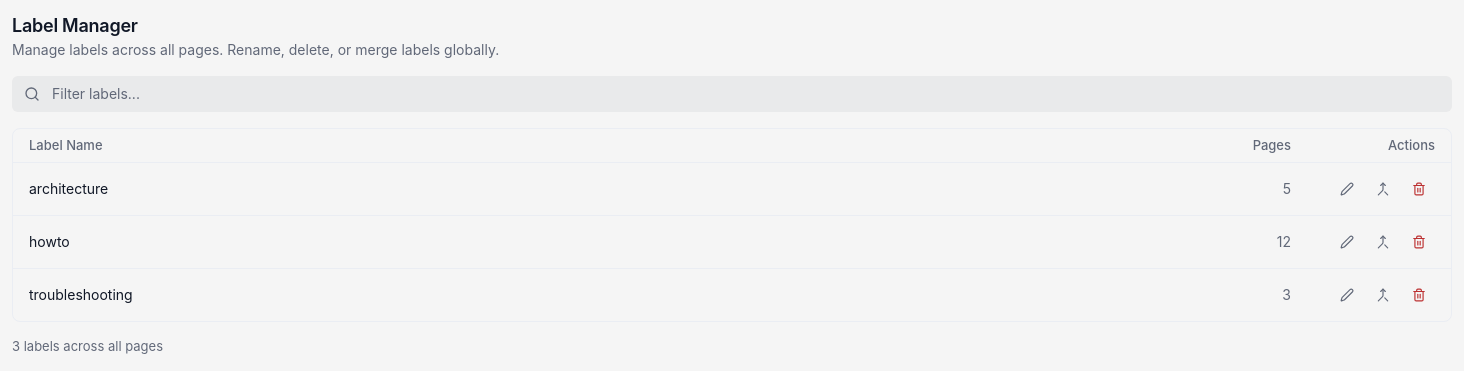
LabelManager › filters labels by search
Expected: the text "architecture" is shown, x1=29 y1=180 x2=108 y2=197
Type "howto" into the field with test id "label-search" at (732, 94), box x1=12 y1=76 x2=1452 y2=112
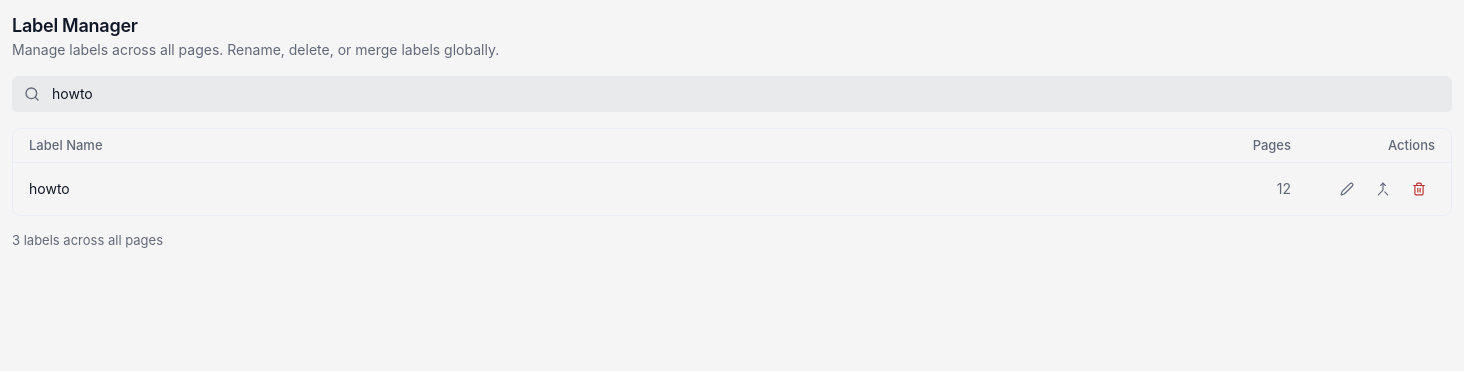
Expected: the text "howto" is shown, x1=29 y1=180 x2=70 y2=197
Expected: the text "architecture" is gone
